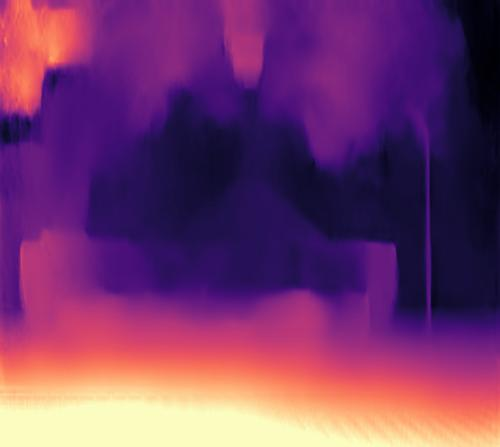painting: (1, 1, 500, 313)
